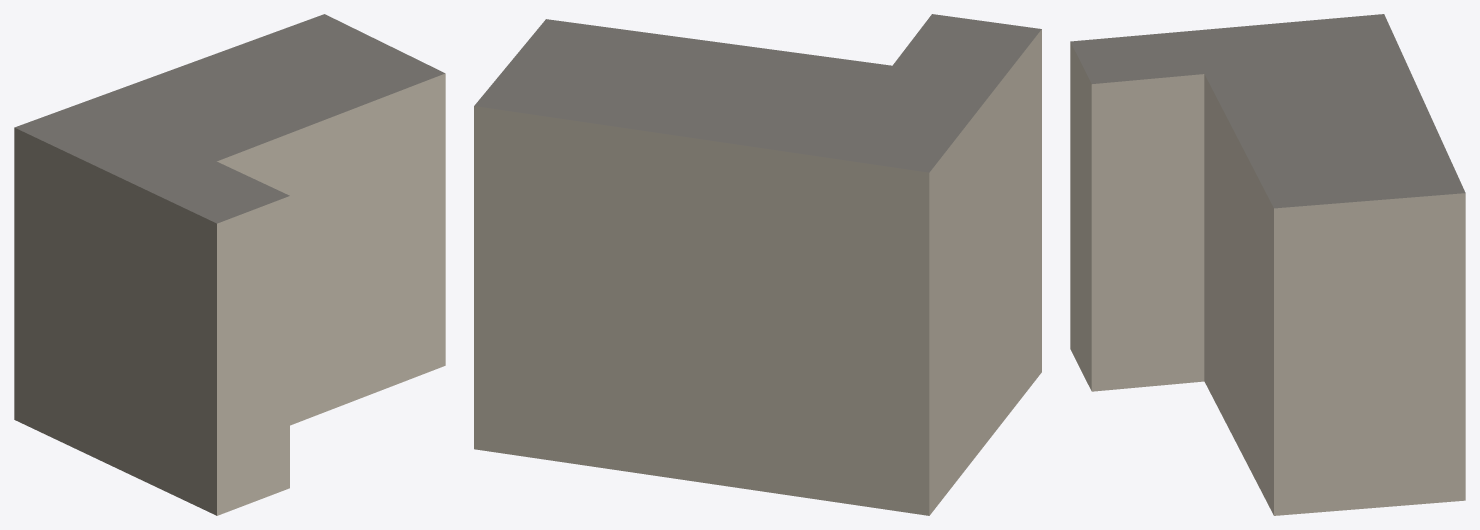
3 views of the same model, side by side, from view 1: azimuth 30°, elevation 25°; view 2: azimuth 150°, elevation 25°; view 3: azimuth 270°, elevation 25° (orthographic). The views are drawn at different scales.
Parts seen in each view (by area): view 1: HP-w505649238; view 2: HP-w505649238; view 3: HP-w505649238.
Part boxes in pixels (x1,y1,x2,y2): HP-w505649238: (14,14,445,515); HP-w505649238: (474,14,1041,515); HP-w505649238: (1070,14,1465,515).
Size of the model in its own units: 24.41 by 18 by 20.98.
